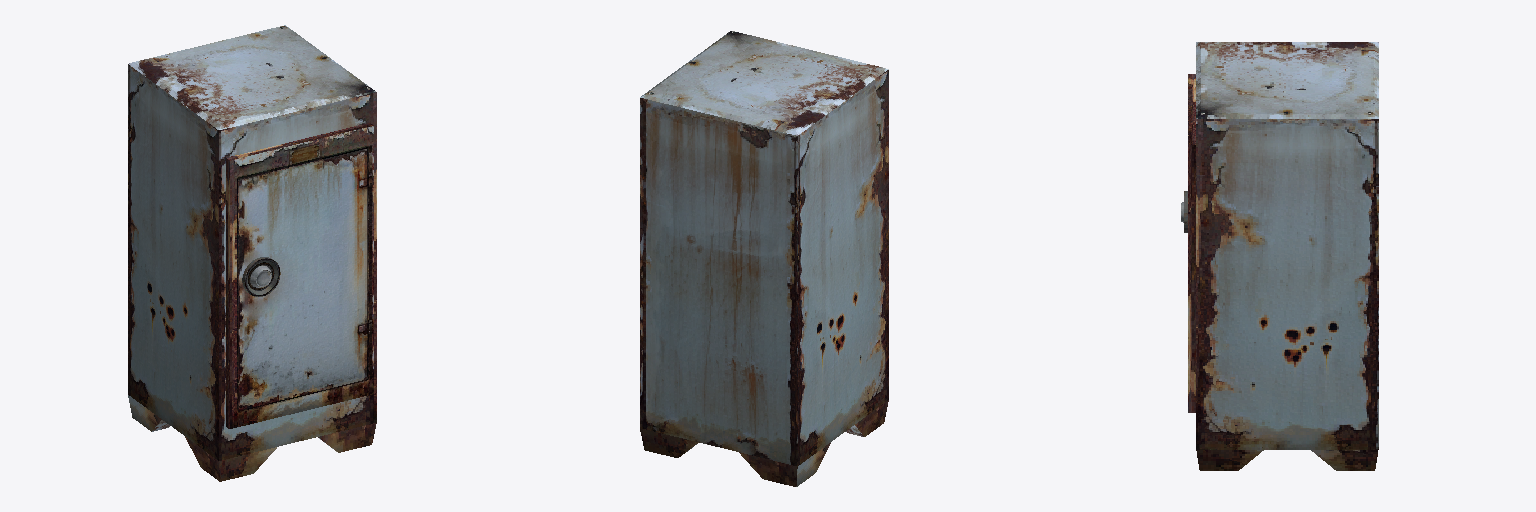
The picture shows the model from 3 angles: view 1: azimuth 30°, elevation 25°; view 2: azimuth 150°, elevation 25°; view 3: azimuth 270°, elevation 25°; orthographic projection.
Parts seen in each view (by area): view 1: Cube; view 2: Cube; view 3: Cube.
Boxes of the visible parts, x1=… form: Cube: x1=128, y1=25, x2=376, y2=481; Cube: x1=640, y1=31, x2=888, y2=486; Cube: x1=1181, y1=42, x2=1378, y2=470.
Size of the model in its own units: 2 by 4.31 by 2.16.
1 materials, 1 textured.